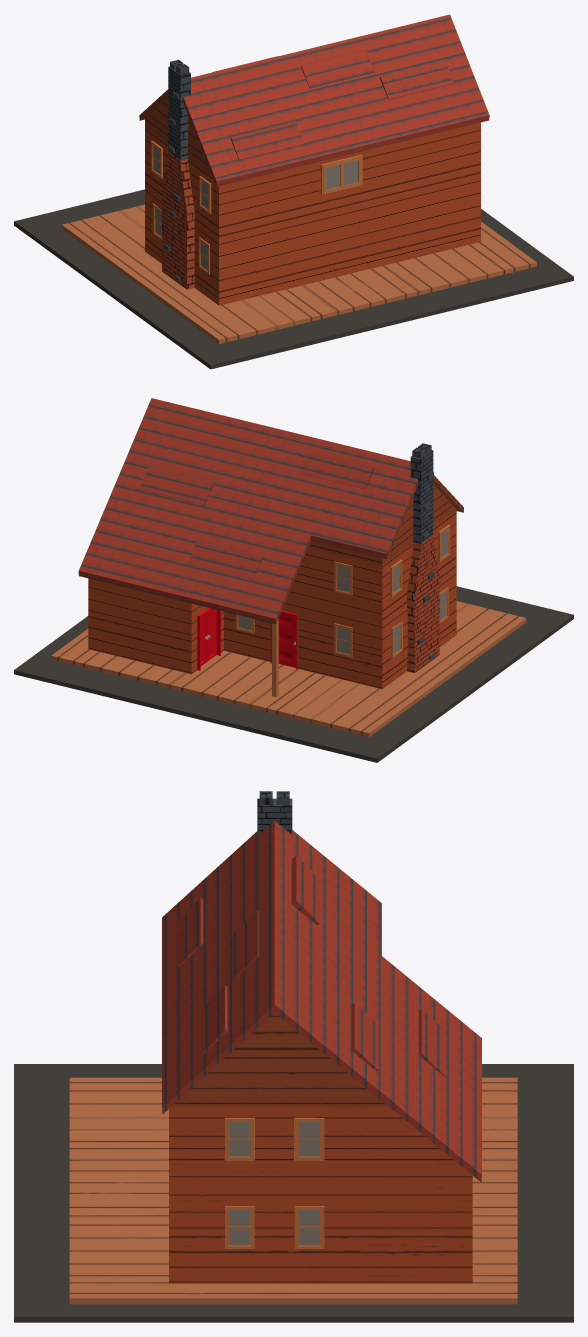
File: WoodHouse1.fbx
3 views of the same model, one above another, from view 1: azimuth 30°, elevation 25°; view 2: azimuth 150°, elevation 25°; view 3: azimuth 270°, elevation 25° (orthographic). The views are drawn at different scales.
Parts seen in each view (by area): view 1: WoodHOuse1; view 2: WoodHOuse1; view 3: WoodHOuse1.
Part boxes in pixels (bbox=[...]): WoodHOuse1: bbox=[14, 14, 573, 369]; WoodHOuse1: bbox=[14, 398, 573, 762]; WoodHOuse1: bbox=[14, 791, 573, 1322].
Size of the model in its own units: 16 by 9.39 by 15.
Materials: 1 (1 with a texture image).
